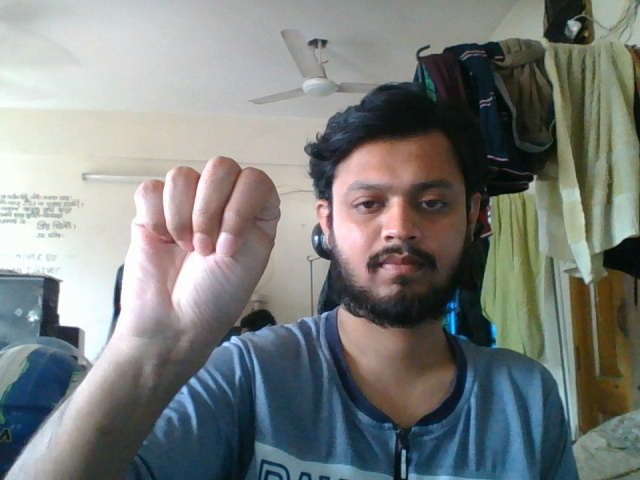to: (108, 156, 294, 362)
